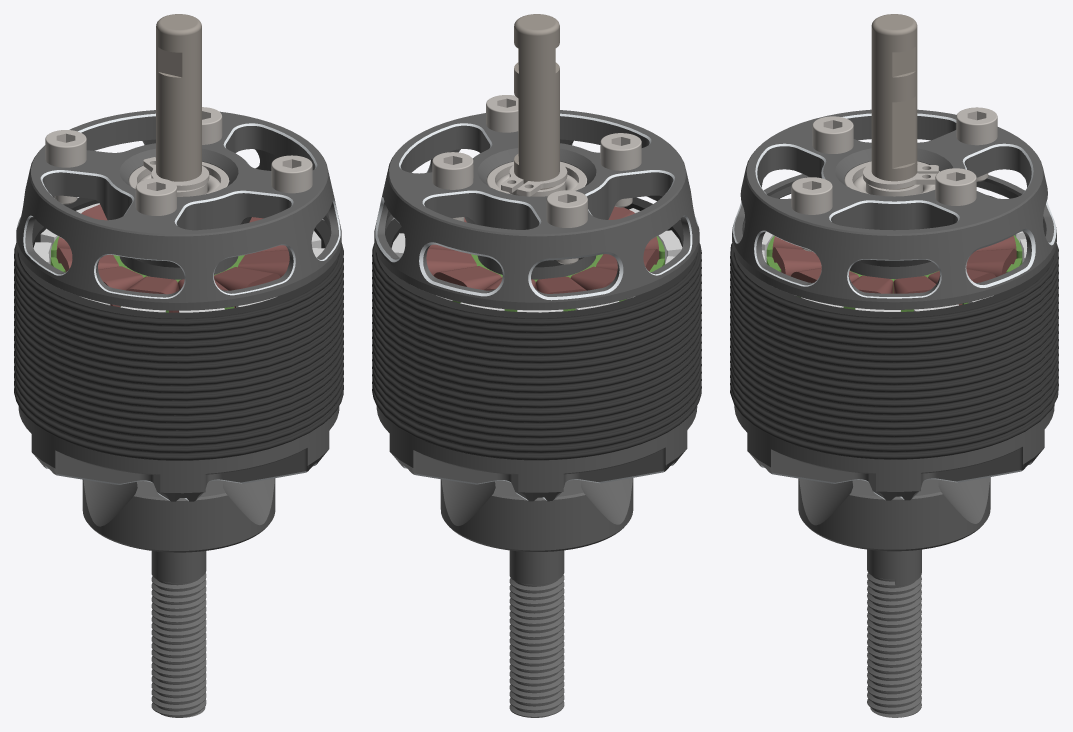
The model's file is AS2814 motor assembly v2.fbx.
3 renders of one model, left to right at view 1: azimuth 30°, elevation 25°; view 2: azimuth 150°, elevation 25°; view 3: azimuth 270°, elevation 25°, orthographic.
Parts seen in each view (by area): view 1: Body1 (×10); view 2: Body1 (×10); view 3: Body1 (×10).
Part boxes in pixels (bbox=[...]): Body1 (×10): bbox=[14, 14, 343, 717]; Body1 (×10): bbox=[372, 14, 701, 717]; Body1 (×10): bbox=[730, 14, 1058, 717].
Bounding box in the file's own units: 0.036 × 0.0825 × 0.0359.
